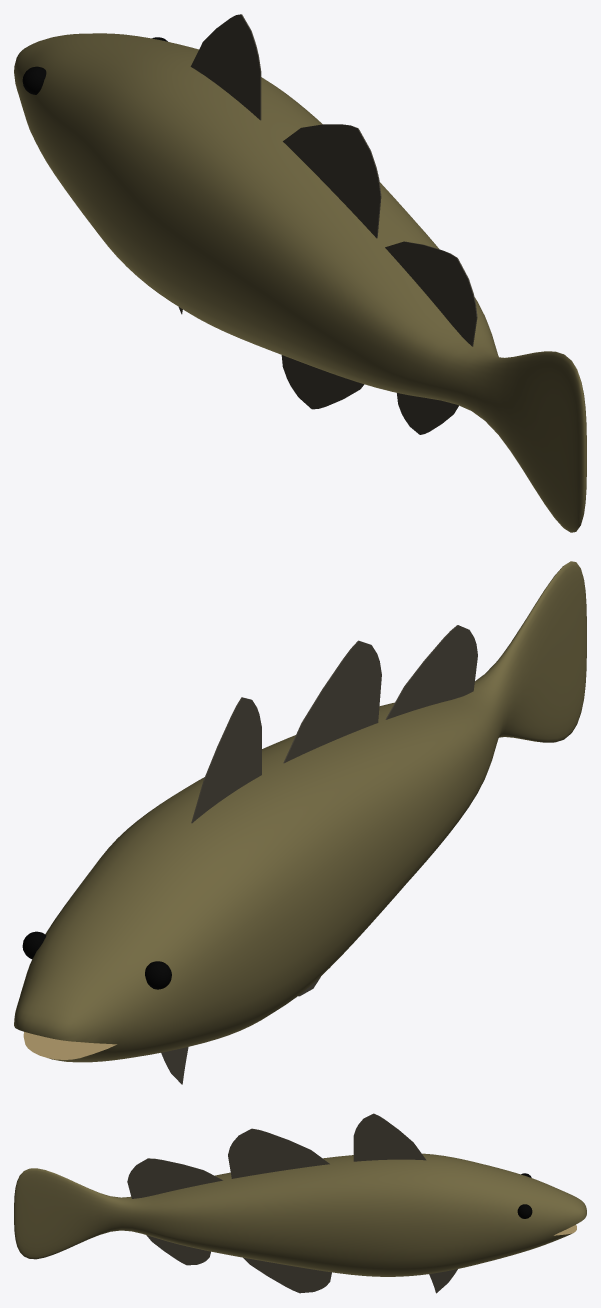
The model's file is CodFish.fbx.
The picture shows the model from 3 angles, top to bottom: view 1: azimuth 30°, elevation 25°; view 2: azimuth 150°, elevation 25°; view 3: azimuth 270°, elevation 25°; orthographic projection. The views are drawn at different scales.
Parts seen in each view (by area): view 1: Body; view 2: Body, Eyes; view 3: Body.
Part boxes in pixels (bbox=[...]): Body: bbox=[14, 14, 586, 532]; Body: bbox=[14, 561, 586, 1084]; Eyes: bbox=[22, 931, 171, 989]; Body: bbox=[14, 1113, 586, 1293].
Size of the model in its own units: 94.85 by 173 by 499.
